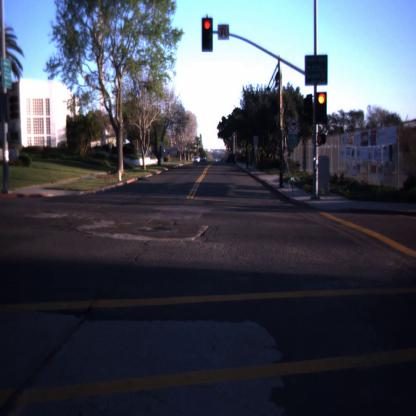trafficlight: (199, 13, 217, 56), (313, 93, 326, 128)
